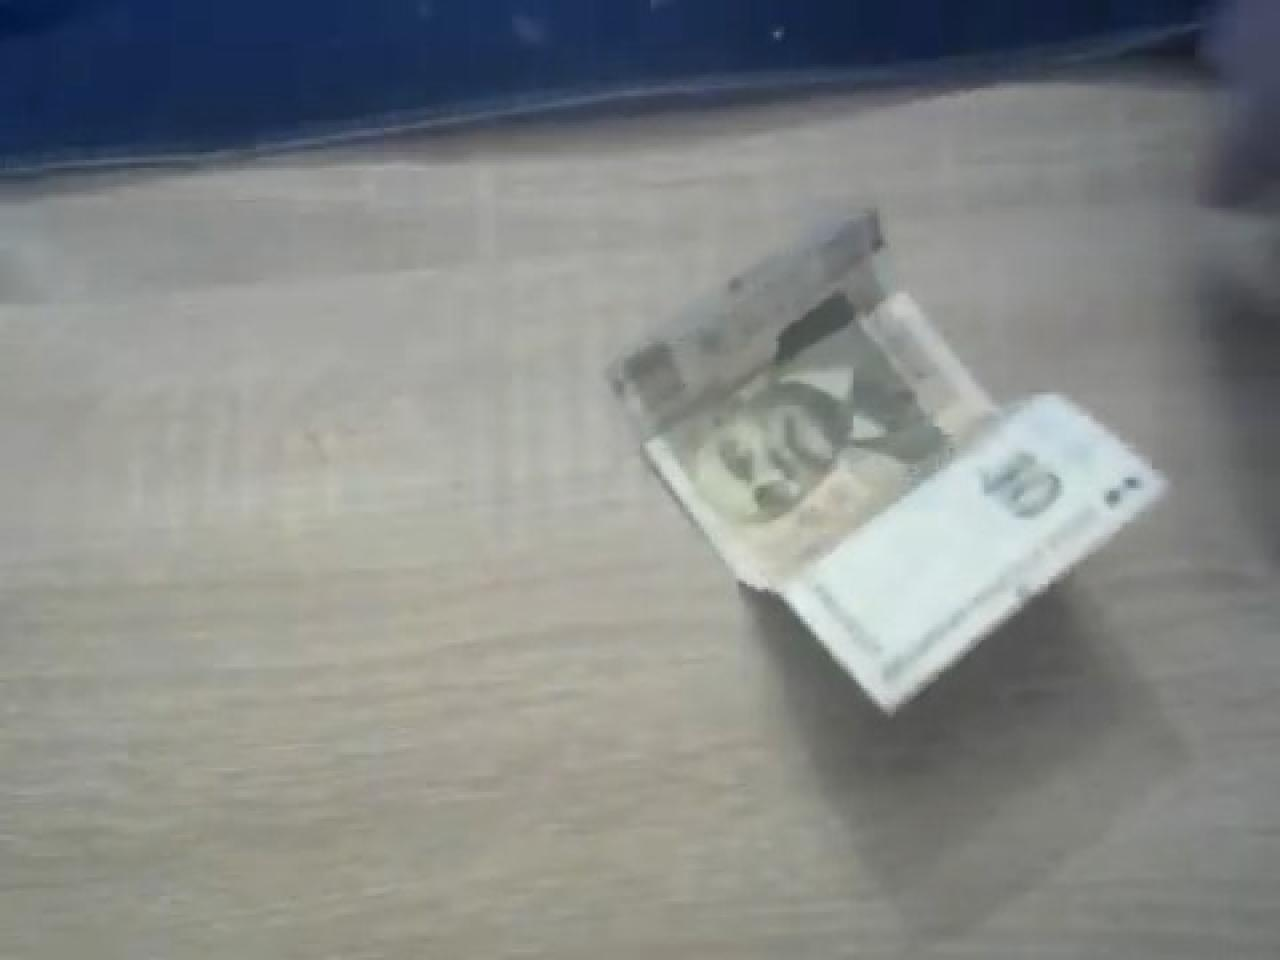10leva: (611, 214, 1171, 723)
